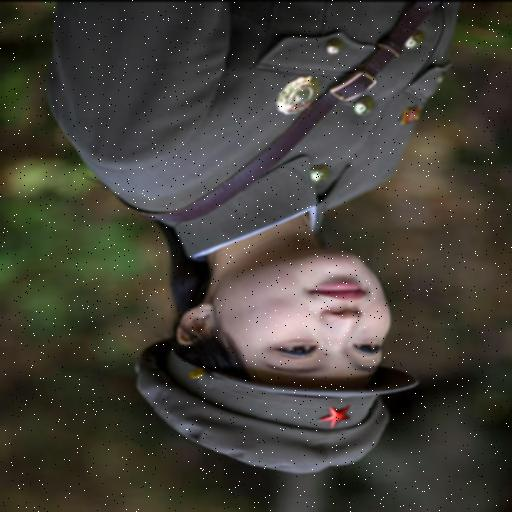north army: (41, 5, 458, 491)
